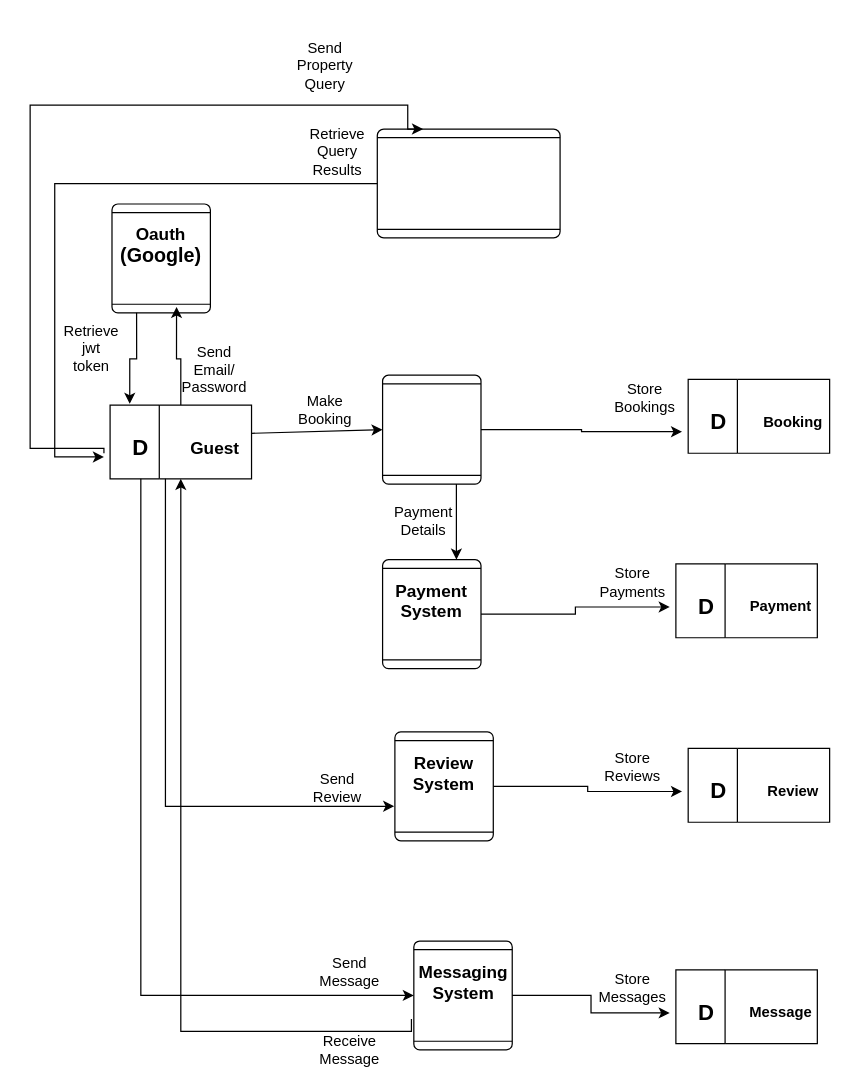
Some shapes in this 863 by 1089 pixel diagram are drawn without their labels. The shapes that lost their labels are listed below. From the top down, each one's box as (x1, y1, x2, y2) in pixels, then its label:
(376, 128, 560, 238): Property Management
(381, 374, 481, 484): Booking System
